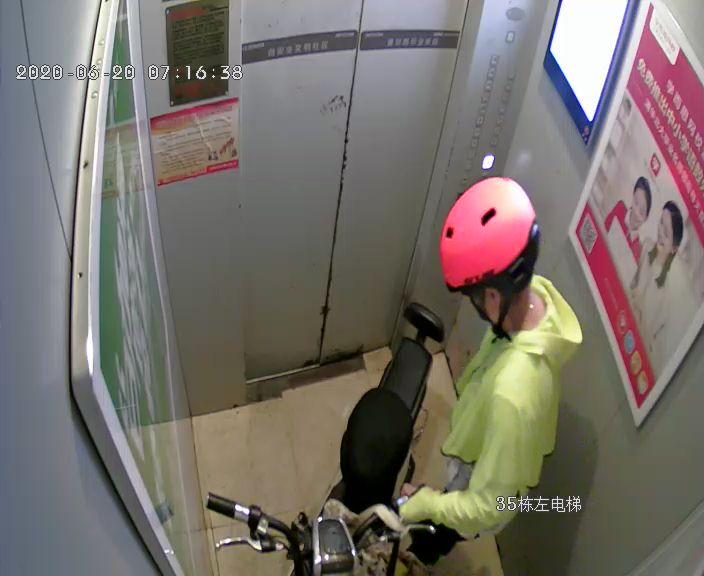Electric-bicycle: (203, 301, 441, 573)
